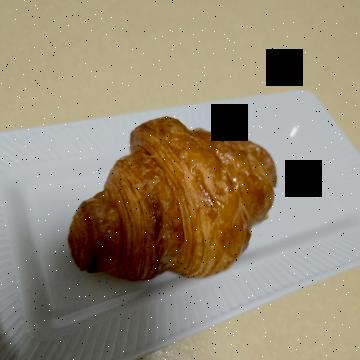croissant: (97, 80, 283, 309)
